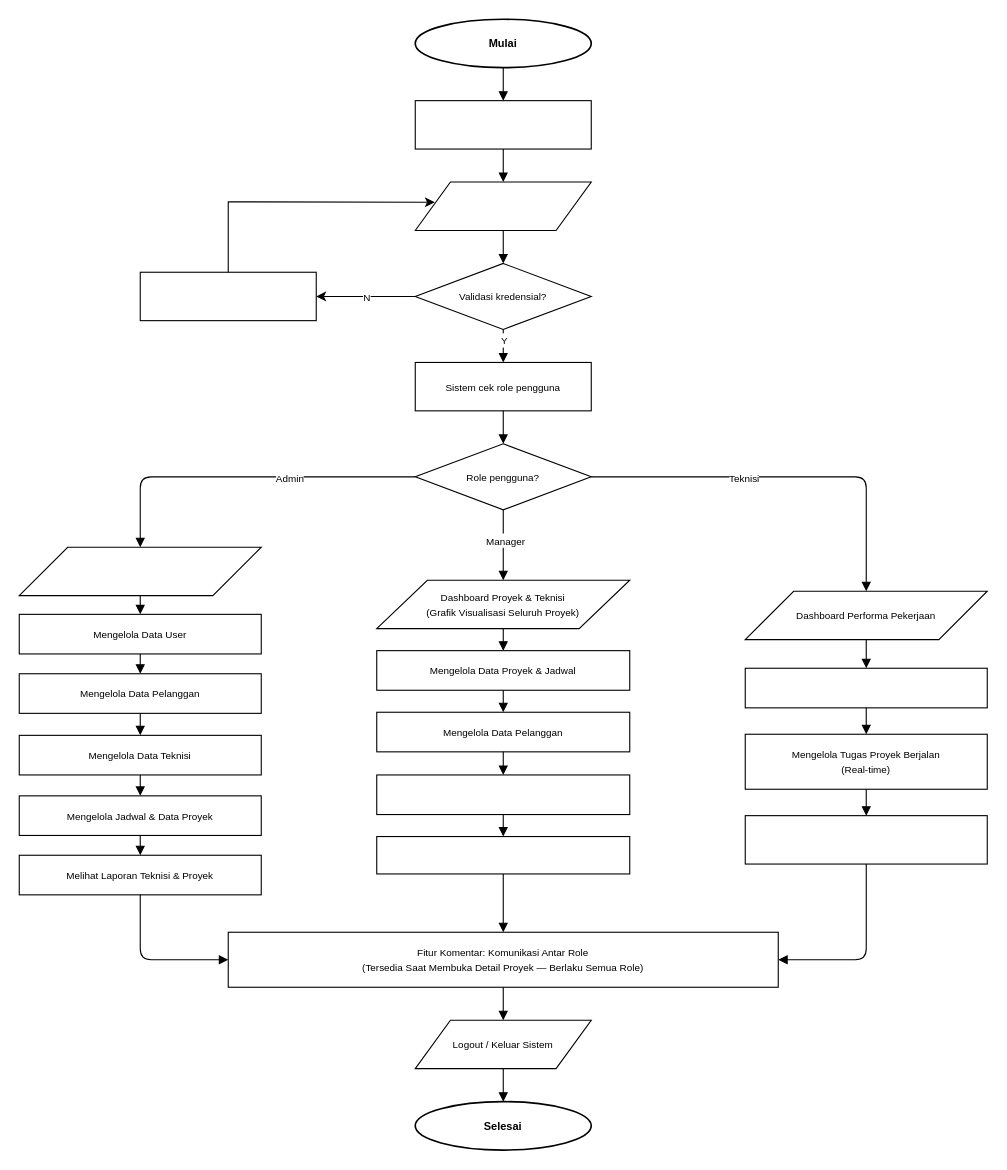
This 1007x1170 diagram has some shape labels left out. The shapes that lost their labels are listed below. From the top down, each one's centre as x and y in pixels, then its label:
point 502,124: Pengguna membuka halaman Login
point 502,205: Input kredensial (email & password)
point 227,296: Tampil pesan error
point 139,571: Dashboard Umum (Summary Keseluruhan Proyek)
point 865,687: Melihat Data Proyek yang Didapatkan
point 503,794: Mengelola Laporan Teknisi & Proyek
point 503,854: Menindaklanjuti Eskalasi Kendala
point 865,839: Mengajukan Eskalasi Kendala ke Manajer
